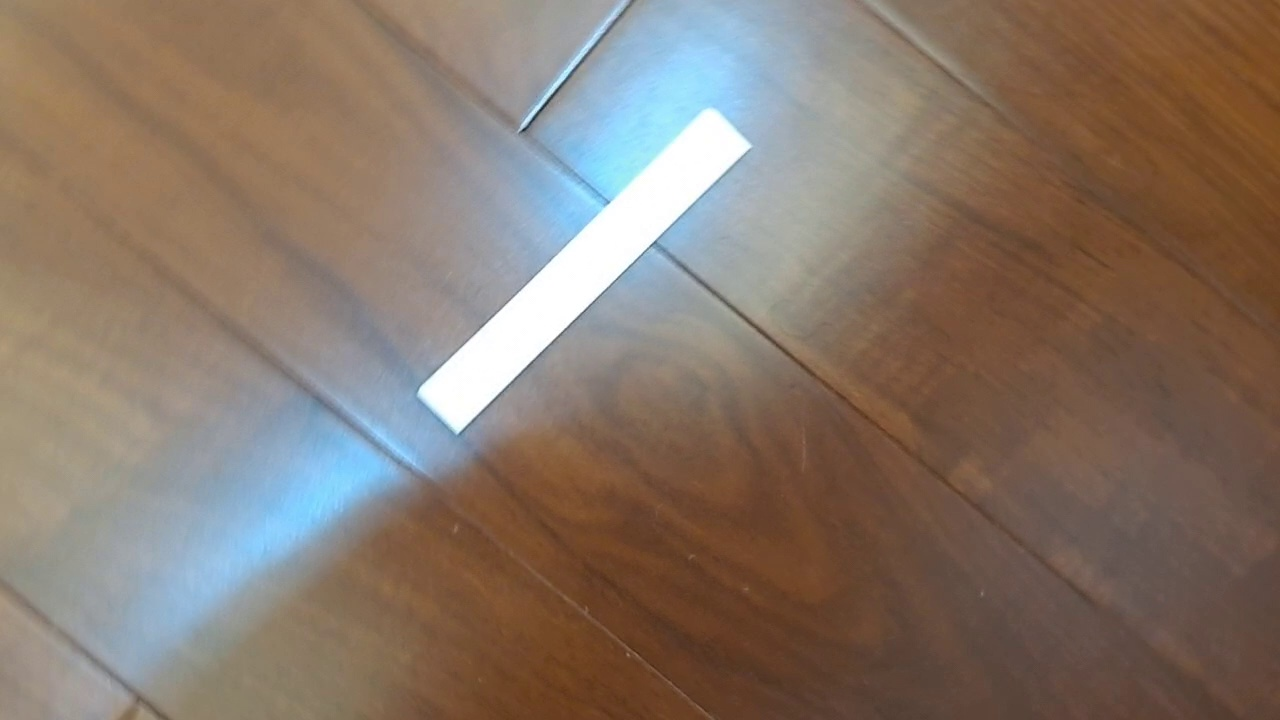ruler: (414, 105, 756, 437)
